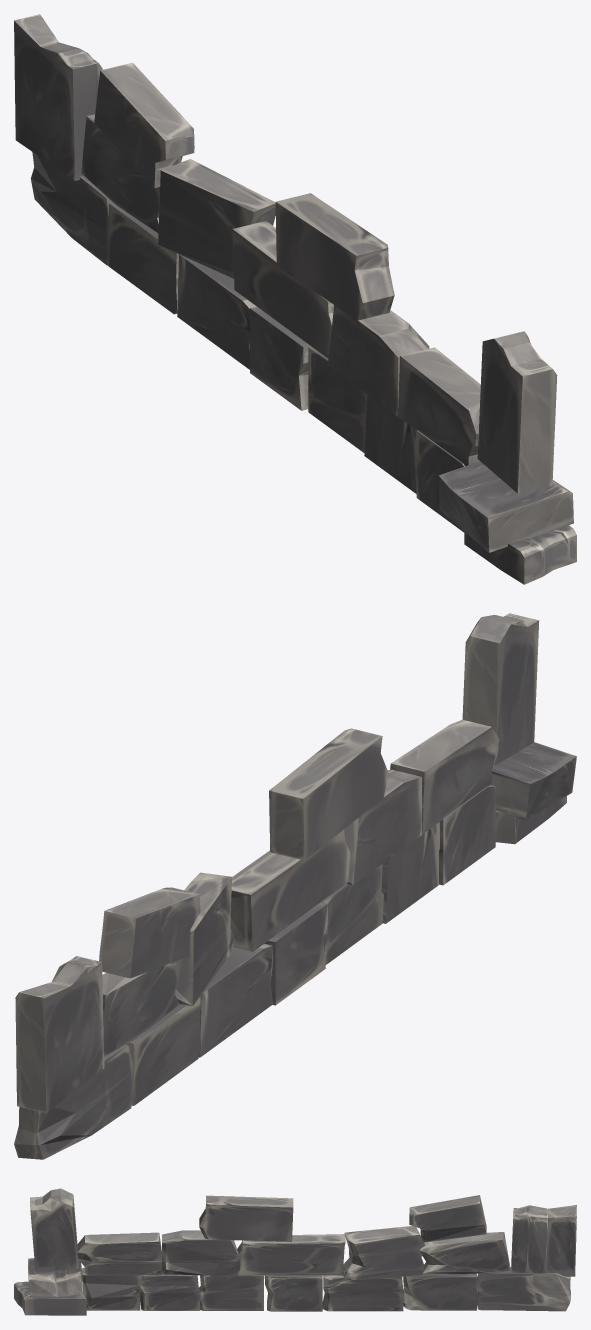
File: shiqiang04.fbx
3 renders of one model, top to bottom at view 1: azimuth 30°, elevation 25°; view 2: azimuth 150°, elevation 25°; view 3: azimuth 270°, elevation 25°, orthographic. The views are drawn at different scales.
Parts seen in each view (by area): view 1: duanqiang01; view 2: duanqiang01; view 3: duanqiang01.
Part boxes in pixels (x1,y1,x2,y2): duanqiang01: (14,14,576,584); duanqiang01: (14,613,576,1159); duanqiang01: (14,1188,576,1315).
Size of the model in its own units: 85.26 by 176 by 783.
Materials: 1 (1 with a texture image).
